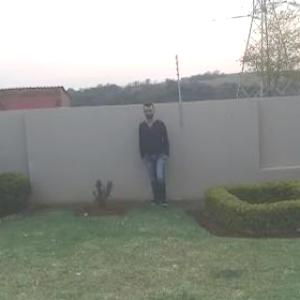follow: (137, 99, 172, 211)
